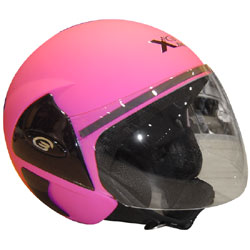helmet: (12, 25, 230, 215)
